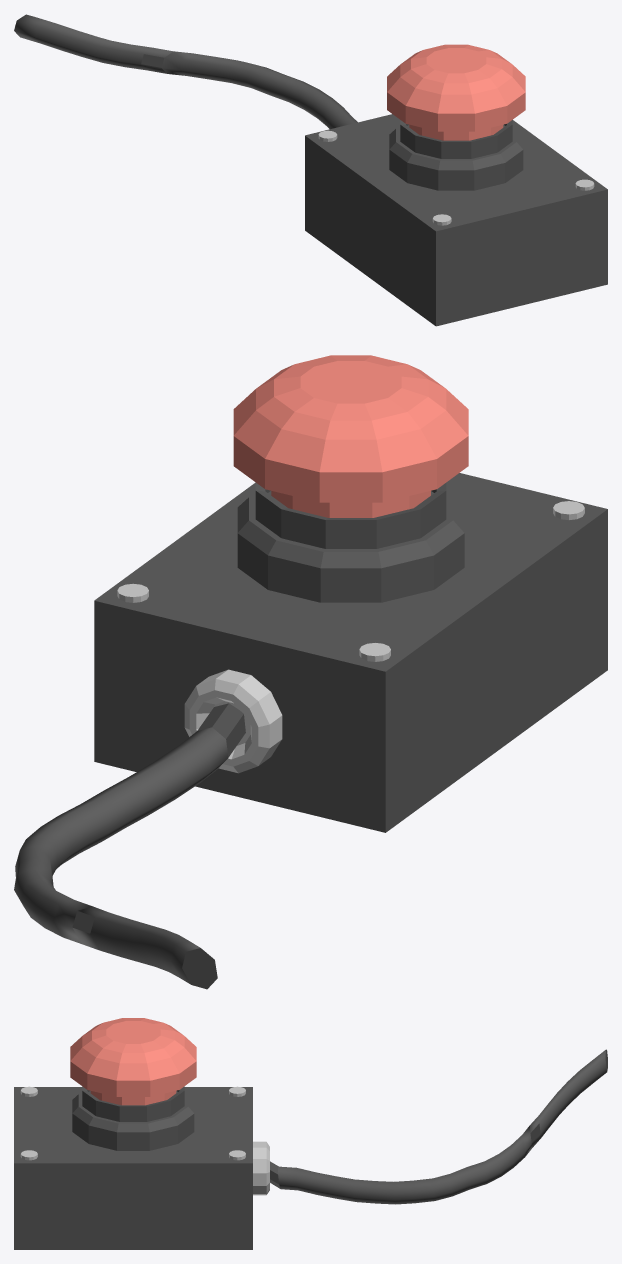
Rendered from redb.fbx.
The picture shows the model from 3 angles, top to bottom: view 1: azimuth 30°, elevation 25°; view 2: azimuth 150°, elevation 25°; view 3: azimuth 270°, elevation 25°; orthographic projection. The views are drawn at different scales.
Visible parts, largest first — view 1: redb; view 2: redb; view 3: redb.
Part boxes in pixels (bbox=[...]): redb: bbox=[14, 14, 607, 326]; redb: bbox=[14, 355, 607, 989]; redb: bbox=[14, 1018, 607, 1249].
Bounding box in the file's own units: 82.55 × 57.97 × 174.
